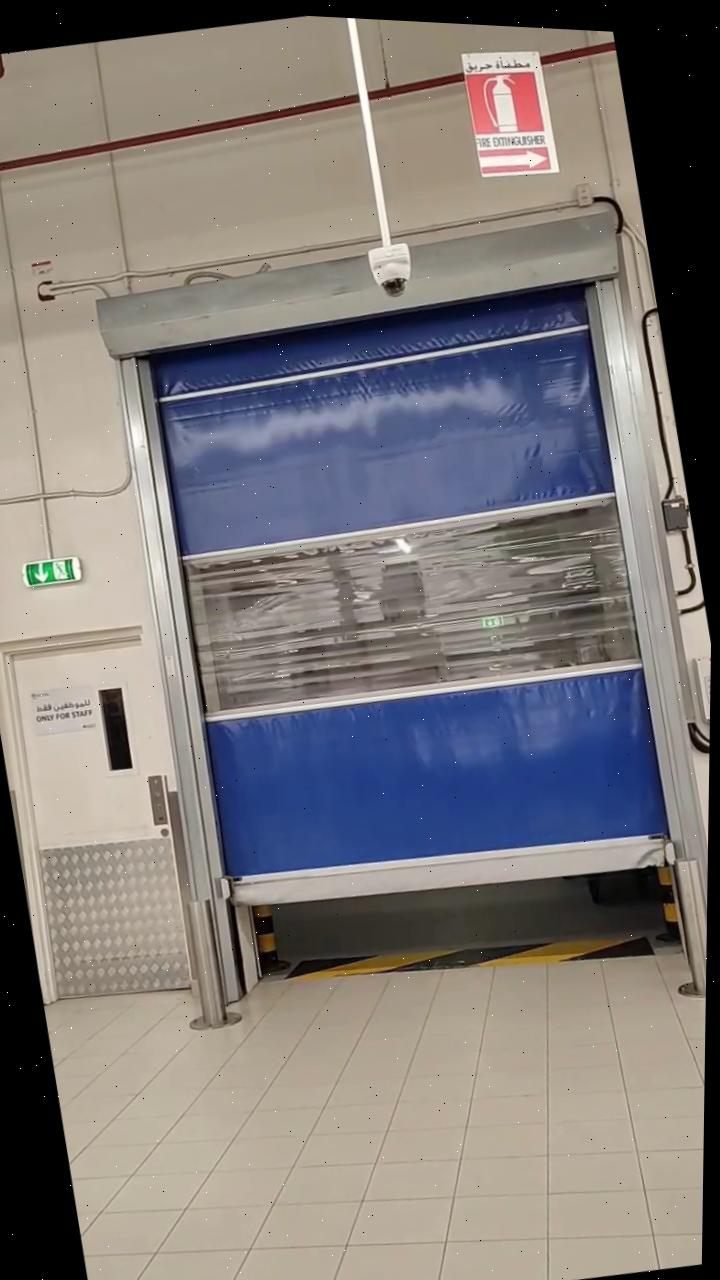Strip: (279, 885, 655, 1018)
